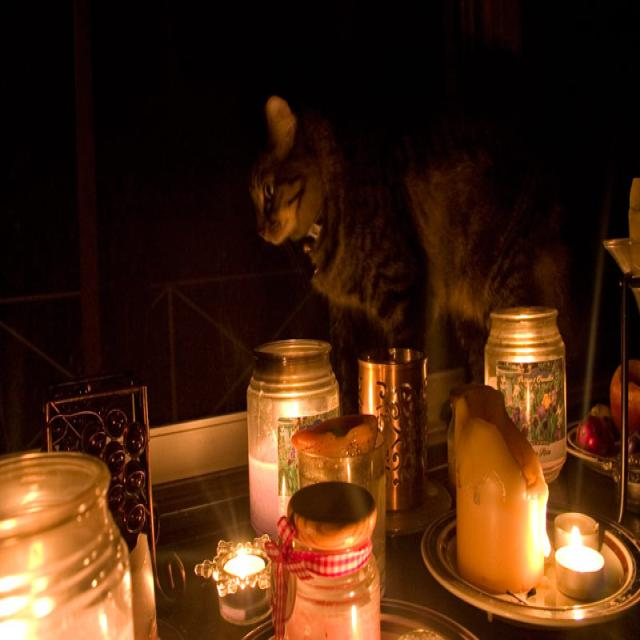Cat: (218, 84, 617, 411)
Cup: (0, 435, 132, 640), (239, 321, 349, 556), (469, 299, 580, 505), (286, 402, 399, 604), (263, 469, 389, 640)
